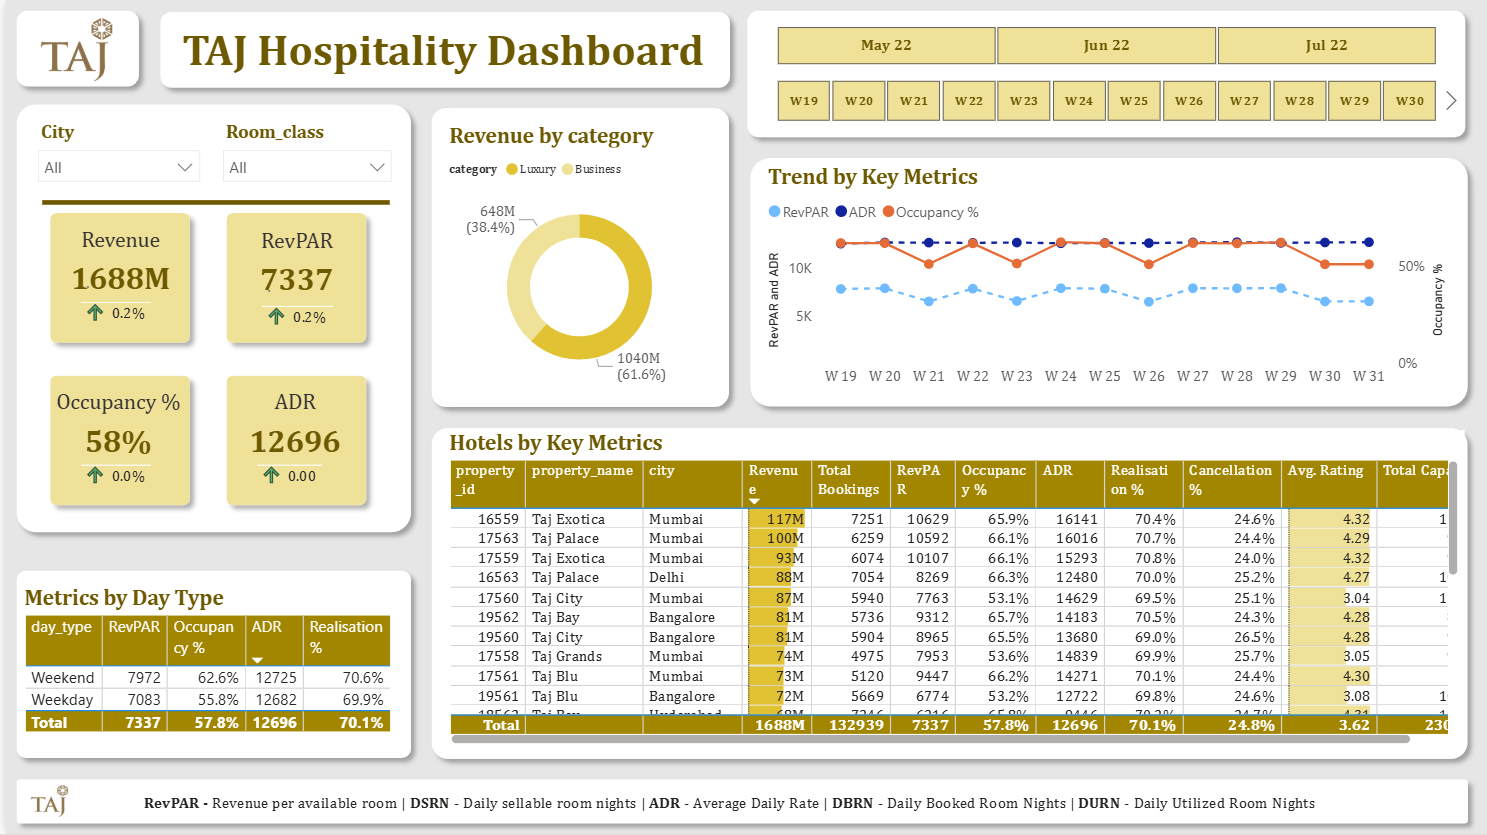

The dashboard page shown, as its layout file describes it:
{"tool":"powerbi","page":{"name":"Taj Dashboard","canvas":[1280,720],"ordinal":0},"visuals":[{"type":"shape","box":[0,483.8,358.8,180],"z":0},{"type":"shape","box":[123.8,1.2,510,83.8],"z":1000},{"type":"shape","box":[0,0,123.8,83.8],"z":2000},{"type":"image","box":[11.2,7.5,100,71.2],"z":3000},{"type":"textbox","box":[142.5,16.2,470,55],"z":4000},{"type":"shape","box":[631.2,0,637.5,127.5],"z":5000},{"type":"shape","box":[633.8,127.5,637.5,232.5],"z":6000},{"type":"shape","box":[358.8,360,912.5,303.8],"z":7000},{"type":"shape","box":[358.8,83.8,275,276.2],"z":8000},{"type":"shape","box":[0,81.2,358.8,387.5],"z":9000},{"type":"slicer","fields":{"Values":["dim_hotels.city"]},"box":[17.5,98.8,160,68.8],"z":10000},{"type":"shape","box":[0,663.8,1271.2,56.2],"z":11000},{"type":"slicer","fields":{"Values":["dim_rooms.room_class"]},"box":[177.5,98.8,166.2,68.8],"z":12000},{"type":"slicer","fields":{"Values":["dim_date.mmm yy"]},"box":[640,16.2,618.8,46.2],"z":13000},{"type":"slicer","fields":{"Values":["dim_date.week no"]},"box":[640,62.5,618.8,48.8],"z":14000},{"type":"tableEx","title":"Hotels by Key Metrics","fields":{"Values":["dim_hotels.property_id","dim_hotels.property_name","dim_hotels.city","Measures (2).Revenue","Measures (2).Total Bookings","Measures (2).RevPAR","Measures (2).Occupancy %","Measures (2).ADR","Measures (2).Realisation %","Measures (2).Cancellation %","Measures (2).Avg. Rating","Measures (2).Total Capacity"]},"box":[377.5,371.2,881.2,276.2],"z":15000},{"type":"donutChart","fields":{"Y":["Measures (2).Revenue"],"Category":["dim_hotels.category"]},"box":[377.5,106.2,235,235],"z":16000},{"type":"lineChart","title":"Trend by Key Metrics","fields":{"Category":["dim_date.mmm yy.Variation.Date Hierarchy.Month","dim_date.week no"],"Y":["Measures (2).RevPAR","Measures (2).ADR"],"Y2":["Measures (2).Occupancy %"]},"box":[652.5,141.2,595,200],"z":17000},{"type":"group","id":"g1","title":"Group 1","box":[28.8,175,138.8,130],"z":18000},{"type":"group","id":"g2","title":"Group 1","box":[181.2,175,138.8,130],"z":19000},{"type":"group","id":"g3","title":"Group 1","box":[28.8,315,138.8,130],"z":20000},{"type":"shape","box":[28.8,175,138.8,130],"z":21000,"group":"g1"},{"type":"shape","box":[181.2,175,138.8,130],"z":21000,"group":"g2"},{"type":"shape","box":[28.8,315,138.8,130],"z":21000,"group":"g3"},{"type":"group","id":"g4","title":"Group 1","box":[181.6,315,138.8,130],"z":21000},{"type":"shape","box":[181.6,315,138.8,130],"z":21000,"group":"g4"},{"type":"card","title":"Revenue","fields":{"Values":["Measures (2).Revenue"]},"box":[41.3,195,113.8,68.8],"z":21500,"group":"g1"},{"type":"card","title":"RevPAR","fields":{"Values":["Measures (2).RevPAR"]},"box":[193.7,196.2,113.8,68.8],"z":21500,"group":"g2"},{"type":"card","title":"Occupancy %","fields":{"Values":["Measures (2).Occupancy %"]},"box":[31,335,131.2,68.8],"z":21500,"group":"g3"},{"type":"card","title":"ADR","fields":{"Values":["Measures (2).ADR"]},"box":[192.8,335,115,68.8],"z":21500,"group":"g4"},{"type":"tableEx","fields":{"Values":["Measures (2).Revenue WoW change %"]},"box":[57.6,230,82.5,63.8],"z":22000,"group":"g1"},{"type":"tableEx","fields":{"Values":["Measures (2).Revpar WoW change %"]},"box":[214.5,233.8,82.5,63.8],"z":22000,"group":"g2"},{"type":"tableEx","fields":{"Values":["Measures (2).Occupancy WoW change %"]},"box":[57.6,370,82.5,63.8],"z":22000,"group":"g3"},{"type":"tableEx","fields":{"Values":["Measures (2).ADR WoW change %"]},"box":[210.4,370,82.5,63.8],"z":22000,"group":"g4"},{"type":"tableEx","title":"Metrics by Day Type","fields":{"Values":["dim_date.day_type","Measures (2).RevPAR","Measures (2).Occupancy %","Measures (2).ADR","Measures (2).Realisation %"]},"box":[11.2,505,332.5,142.5],"z":22000},{"type":"textbox","box":[111.2,678.8,1071.2,28.8],"z":23000},{"type":"image","box":[11.2,671.2,53.8,41.2],"z":24000},{"type":"shape","box":[31.2,167.5,300,15],"z":25000}]}

Visuals, with their boxes in screenshot pixels (x1, y1, x2, y2), scaled from the page's 1280x720 canvas onto the 1487x835 screenshot:
shape: 0 561 417 770
shape: 144 1 736 99
shape: 0 0 144 97
image: 13 9 129 91
textbox: 166 19 712 83
shape: 733 0 1474 148
shape: 736 148 1477 418
shape: 417 418 1477 770
shape: 417 97 736 418
shape: 0 94 417 544
slicer - dim_hotels.city: 20 115 206 194
shape: 0 770 1477 834
slicer - dim_rooms.room_class: 206 115 399 194
slicer - dim_date.mmm yy: 744 19 1462 72
slicer - dim_date.week no: 744 72 1462 129
"Hotels by Key Metrics" tableEx: 439 430 1462 751
donutChart - Measures (2).Revenue x dim_hotels.category: 439 123 712 396
"Trend by Key Metrics" lineChart: 758 164 1449 396
"Group 1" group: 33 203 195 354
"Group 1" group: 211 203 372 354
"Group 1" group: 33 365 195 516
shape: 33 203 195 354
shape: 211 203 372 354
shape: 33 365 195 516
"Group 1" group: 211 365 372 516
shape: 211 365 372 516
"Revenue" card: 48 226 180 306
"RevPAR" card: 225 228 357 307
"Occupancy %" card: 36 389 188 468
"ADR" card: 224 389 358 468
tableEx - Measures (2).Revenue WoW change %: 67 267 163 341
tableEx - Measures (2).Revpar WoW change %: 249 271 345 345
tableEx - Measures (2).Occupancy WoW change %: 67 429 163 503
tableEx - Measures (2).ADR WoW change %: 244 429 340 503
"Metrics by Day Type" tableEx: 13 586 399 751
textbox: 129 787 1374 821
image: 13 778 76 826
shape: 36 194 385 212
